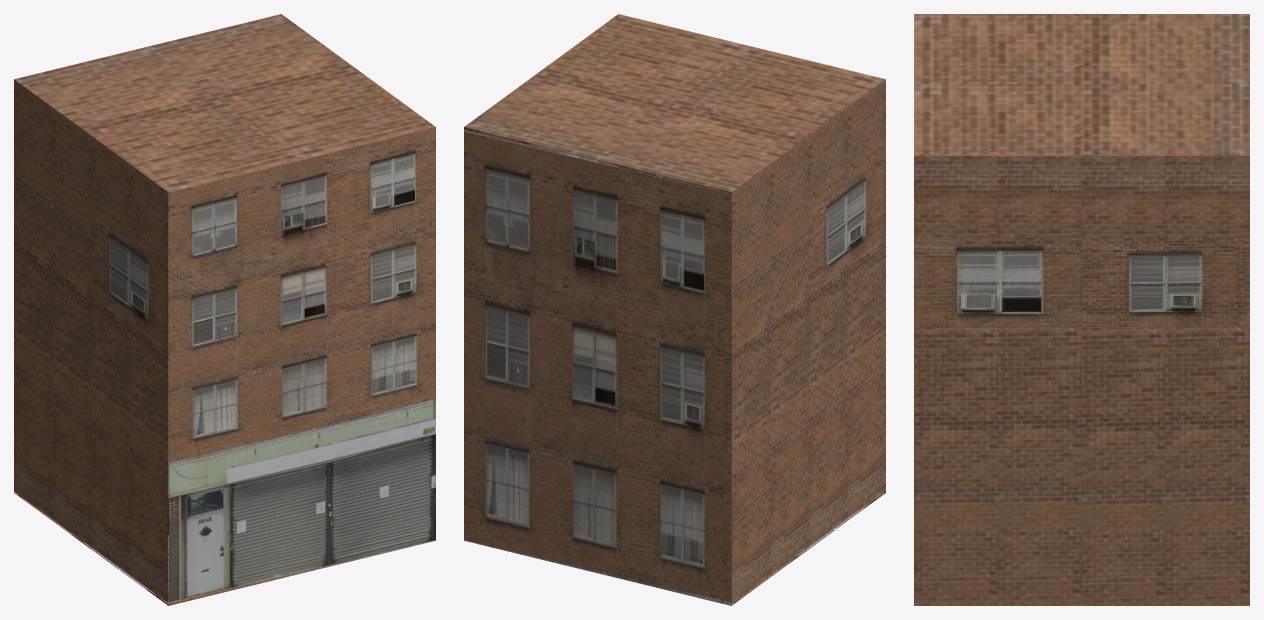
Rendered from edificio 1.fbx.
3 views of the same model, side by side, from view 1: azimuth 30°, elevation 25°; view 2: azimuth 150°, elevation 25°; view 3: azimuth 270°, elevation 25° (orthographic). The views are drawn at different scales.
Visible parts, largest first — view 1: Cube; view 2: Cube; view 3: Cube.
Boxes of the visible parts, x1,y1,x2,y2 form: Cube: (14, 14, 435, 605); Cube: (464, 14, 885, 605); Cube: (914, 14, 1249, 605).
Size of the model in its own units: 200 by 296 by 200.
